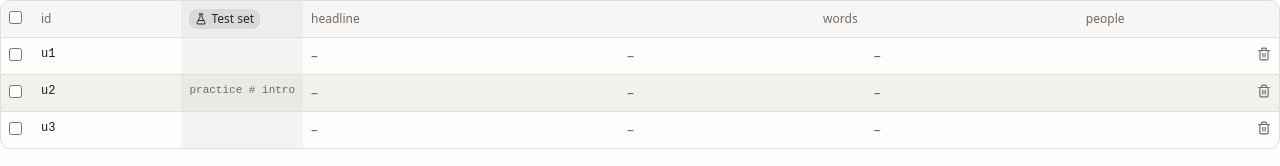
Test: the units table › selects units one by one, and all of the page at once
Later steps or results of the test are not shown.
Click the checkbox named "Select u2" at point(16, 92), box [9,85,22,98]
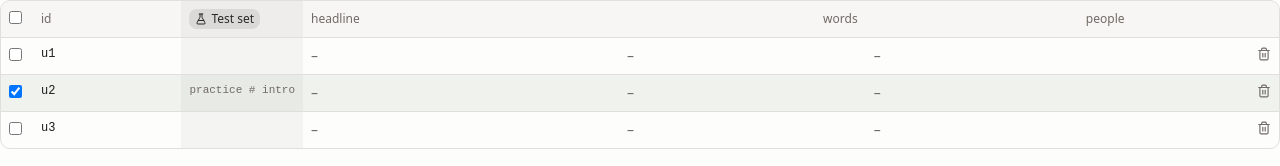
Click the checkbox named "Select all units on this page" at point(16, 17), box [9,10,22,24]
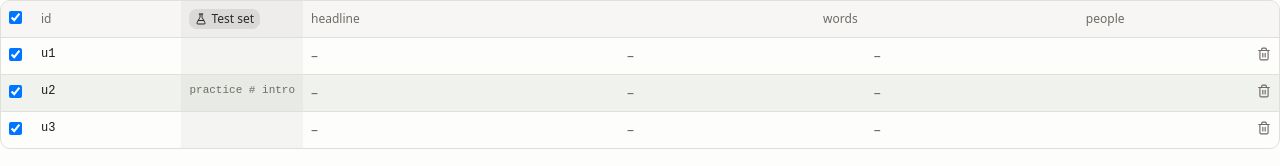
Check: the checkbox named "Select all units on this page" is checked, box [9,10,22,24]
